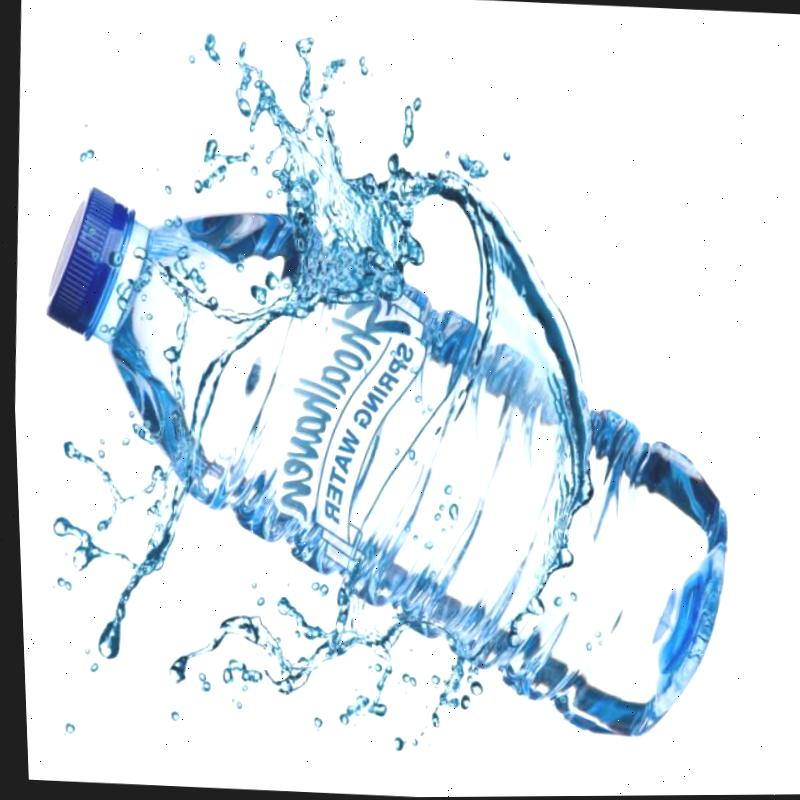botella: (13, 181, 743, 751)
